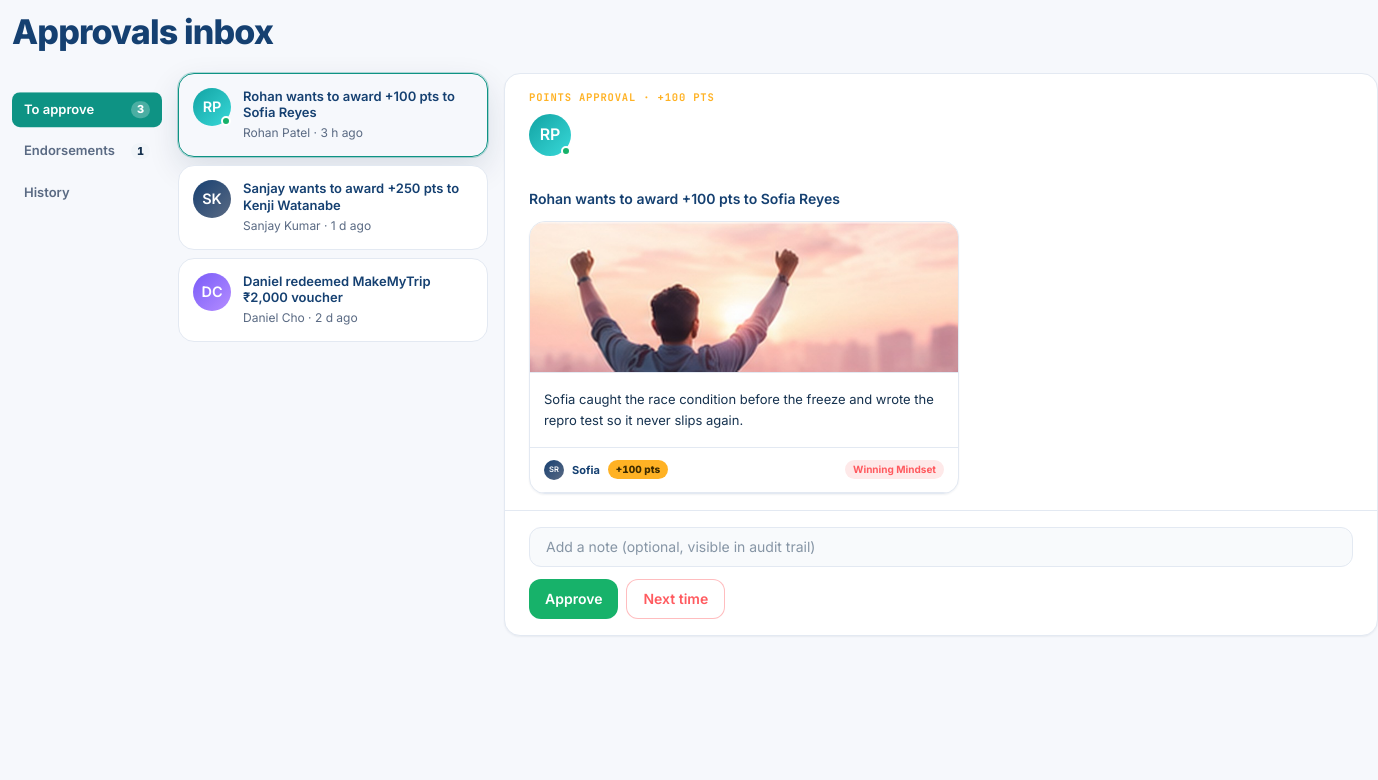
Approvals screen › approves a request and tracks the decision in History
Click the button "Approve" at (574,599), box top-left (529, 579), bottom-right (618, 619)
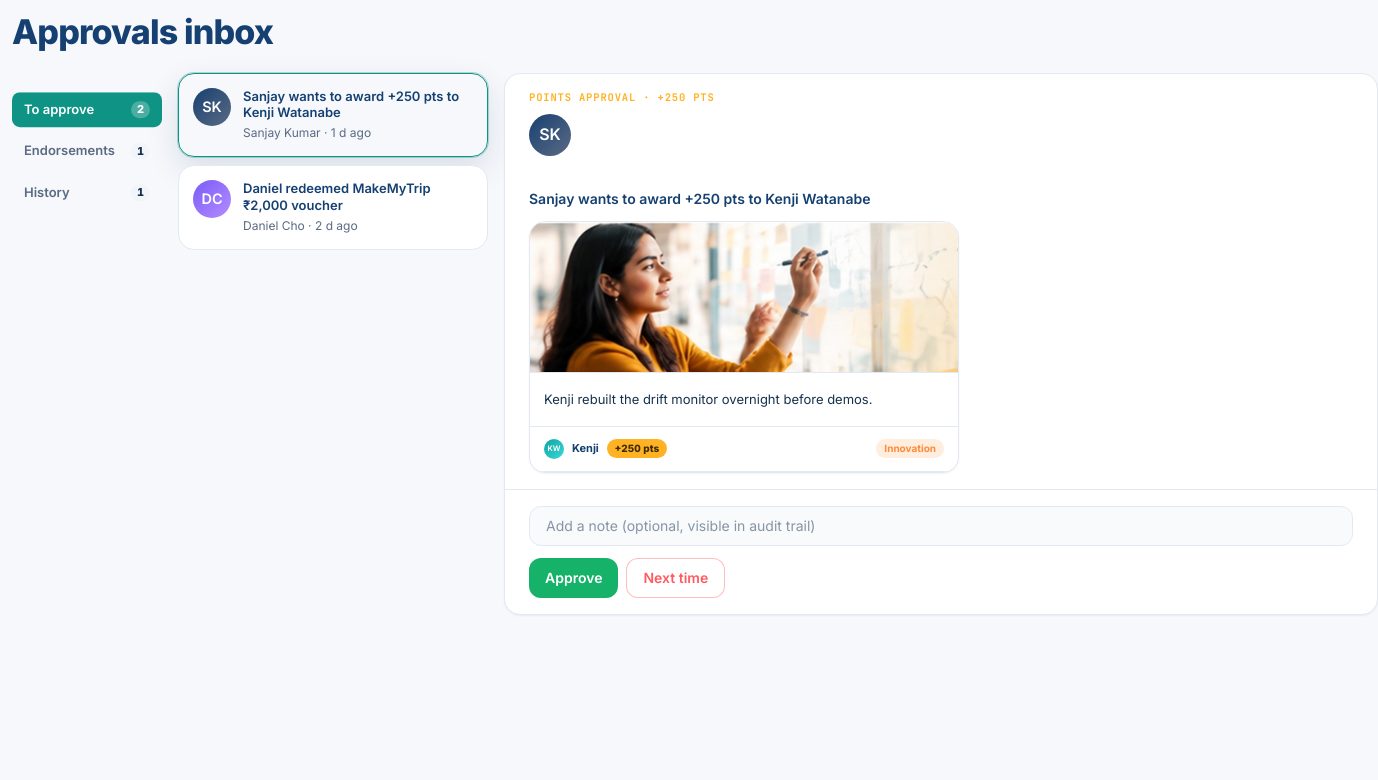
Click the button "History 1" at (87,193), box top-left (12, 175), bottom-right (162, 210)
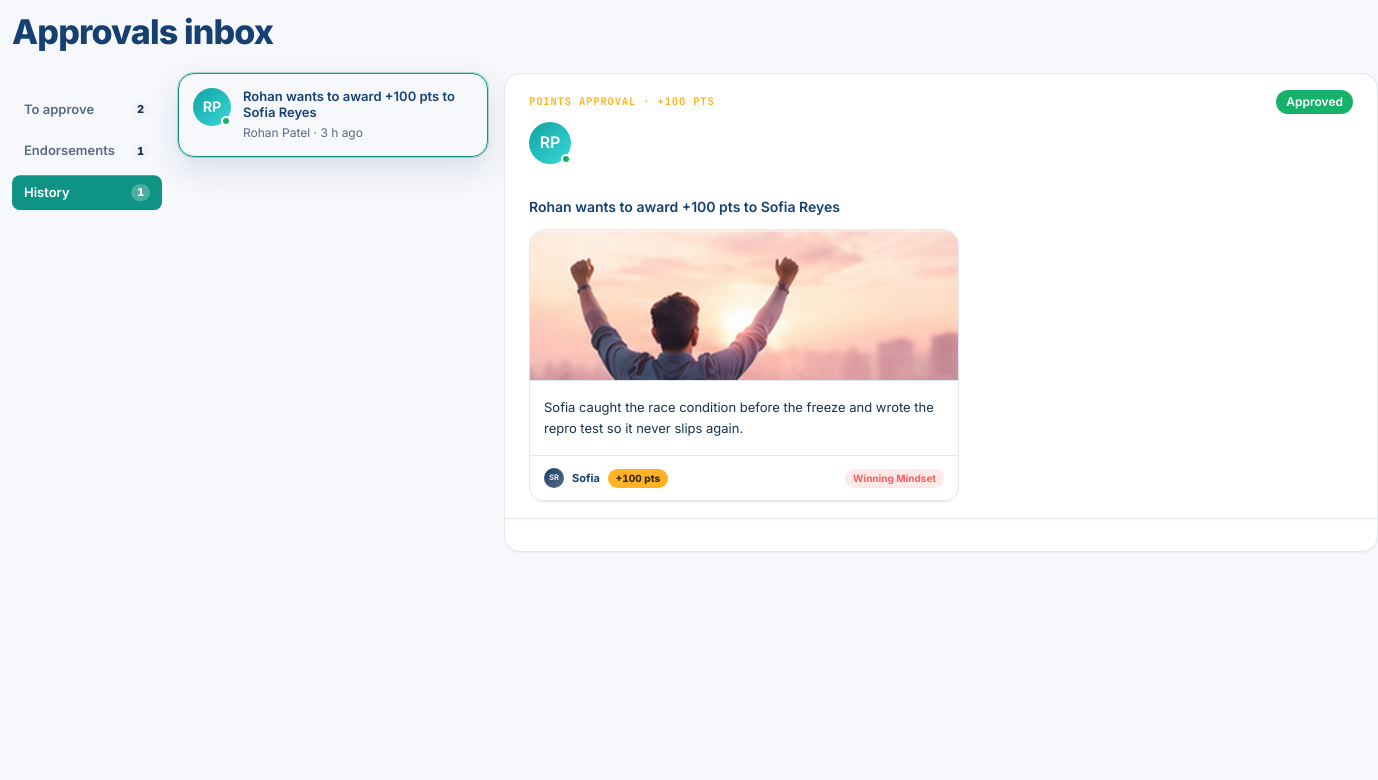
Expected: the text "Approved" is shown, top-left (1276, 90), bottom-right (1353, 114)
